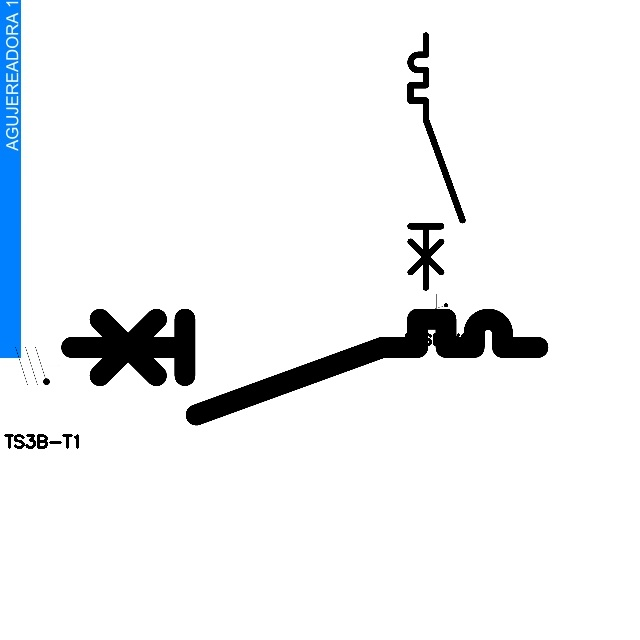interruptor_termomagnetico: (59, 307, 549, 427), (404, 29, 468, 294)
